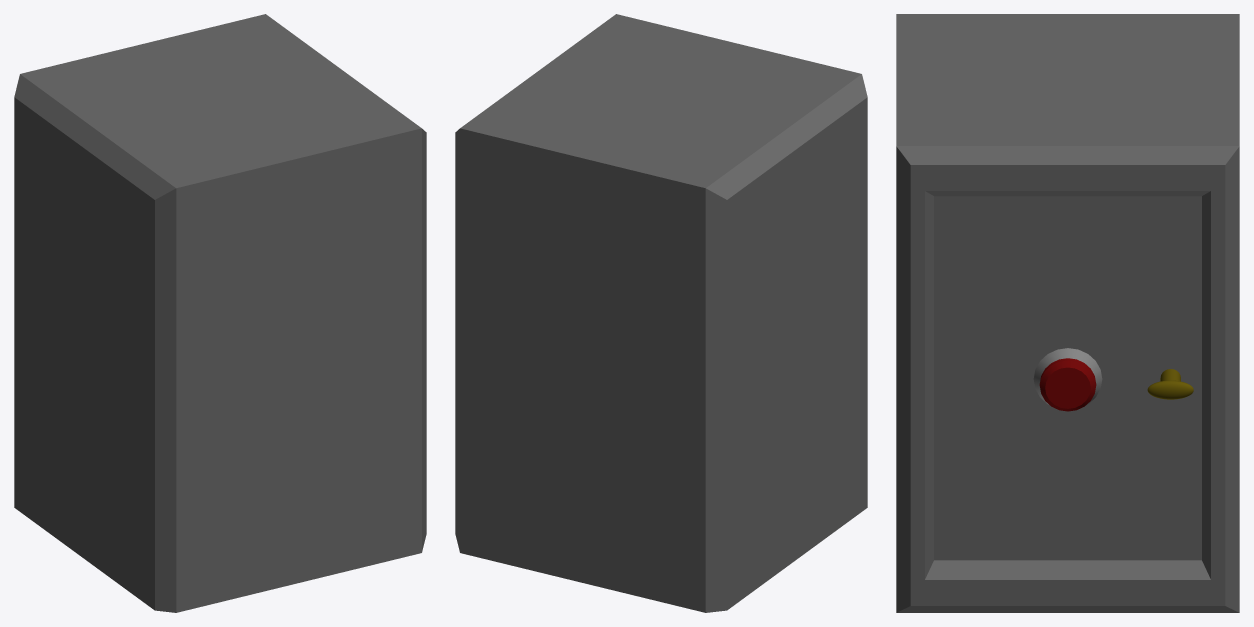
Rendered from safev2.fbx.
3 renders of one model, left to right at view 1: azimuth 30°, elevation 25°; view 2: azimuth 150°, elevation 25°; view 3: azimuth 270°, elevation 25°, orthographic. The views are drawn at different scales.
Visible parts, largest first — view 1: pCube2; view 2: pCube2; view 3: pCube2 (×4).
Boxes of the visible parts, x1,y1,x2,y2 form: pCube2: [14, 14, 426, 612]; pCube2: [455, 14, 867, 612]; pCube2 (×4): [896, 14, 1239, 612].
Size of the model in its own units: 210 by 300 by 200.
